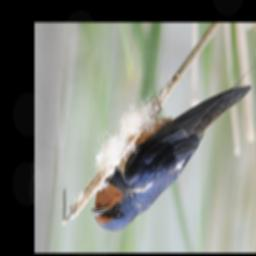Swallow: (89, 84, 252, 232)
